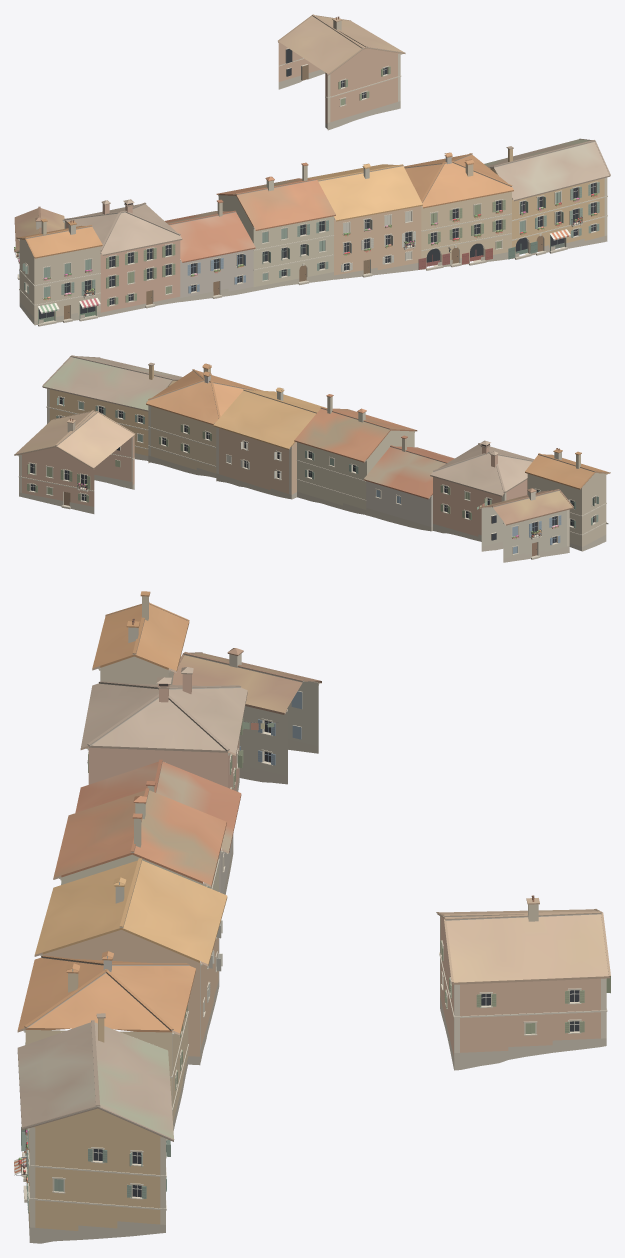
Rendered from SM_BM_BT_blk_19.glb.
3 renders of one model, top to bottom at view 1: azimuth 30°, elevation 25°; view 2: azimuth 150°, elevation 25°; view 3: azimuth 270°, elevation 25°, orthographic. The views are drawn at different scales.
Parts seen in each view (by area): view 1: SM_BM_BT_blk_19; view 2: SM_BM_BT_blk_19; view 3: SM_BM_BT_blk_19.
Part boxes in pixels (bbox=[...]): SM_BM_BT_blk_19: bbox=[14, 14, 610, 326]; SM_BM_BT_blk_19: bbox=[14, 355, 610, 562]; SM_BM_BT_blk_19: bbox=[14, 591, 610, 1243].
Bounding box in the file's own units: 96.89 × 23.76 × 52.28.
